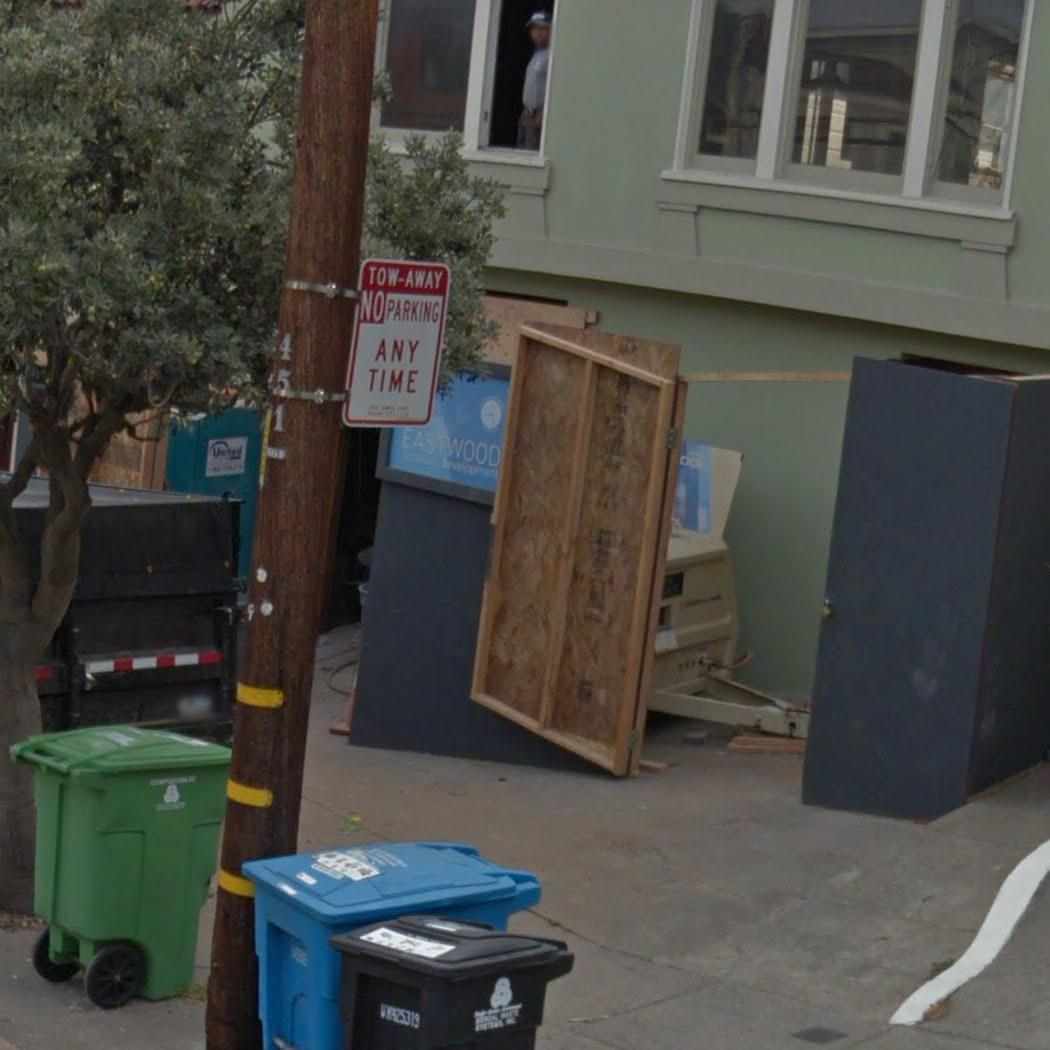No Parking Anytime: (338, 252, 456, 435)
